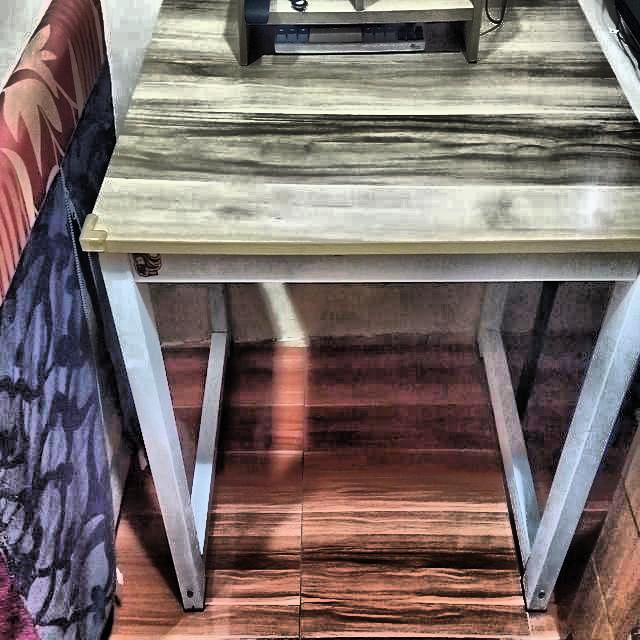mesa: (77, 0, 640, 617)
